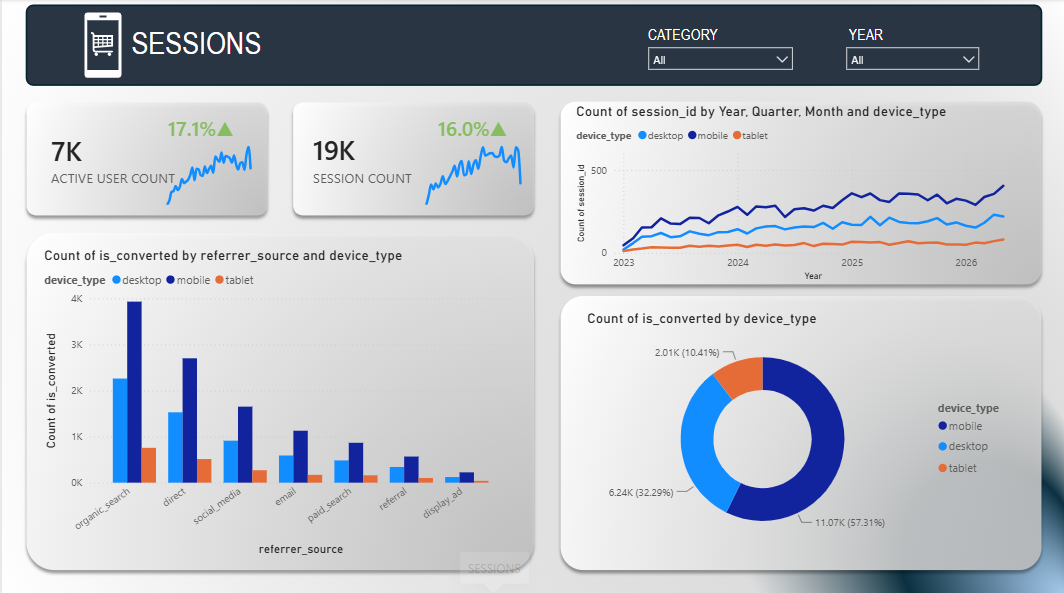

Layout of this report page (visuals, bound fields, positions):
{"tool":"powerbi","page":{"name":"SESSIONS","canvas":[1280,720],"ordinal":4},"visuals":[{"type":"cardVisual","fields":{"Data":["DAX Measures.ACTIVE USER COUNT"]},"box":[30.2,139.3,216.8,106.4],"z":0},{"type":"cardVisual","fields":{"Data":["DAX Measures.SESSION COUNT"]},"box":[345.5,143.2,183.9,98.5],"z":1000},{"type":"cardVisual","fields":{"Data":["DAX Measures.% YOY ACTIVE USER"]},"box":[170.8,114.3,151.1,78.8],"z":2000},{"type":"cardVisual","fields":{"Data":["DAX Measures.% YOY SESSION COUNT"]},"box":[496.6,114.3,151.1,78.8],"z":3000},{"type":"lineChart","fields":{"Category":["users.signup_date.Variation.Date Hierarchy.Year","users.signup_date.Variation.Date Hierarchy.Quarter","users.signup_date.Variation.Date Hierarchy.Month"],"Y":["DAX Measures.ACTIVE USER COUNT"]},"box":[183.9,164.2,130.1,89.3],"z":4000},{"type":"lineChart","fields":{"Category":["users.signup_date.Variation.Date Hierarchy.Year","users.signup_date.Variation.Date Hierarchy.Quarter","users.signup_date.Variation.Date Hierarchy.Month"],"Y":["DAX Measures.SESSION COUNT"]},"box":[496.6,164.2,143.2,89.3],"z":5000},{"type":"lineChart","fields":{"Category":["sessions.start_time.Variation.Date Hierarchy.Year","sessions.start_time.Variation.Date Hierarchy.Quarter","sessions.start_time.Variation.Date Hierarchy.Month"],"Y":["CountNonNull(sessions.session_id)"],"Series":["sessions.device_type"]},"box":[685.8,124.8,537.4,219.4],"z":8000},{"type":"donutChart","fields":{"Category":["sessions.device_type"],"Y":["CountNonNull(sessions.is_converted)"]},"box":[699,374.5,524.2,291.7],"z":9000},{"type":"clusteredColumnChart","fields":{"Category":["sessions.referrer_source"],"Y":["CountNonNull(sessions.is_converted)"],"Series":["sessions.device_type"]},"box":[46,298.2,572.8,377.1],"z":10000},{"type":"slicer","fields":{"Values":["products.category"]},"box":[768,48.2,194.1,45.4],"z":10001},{"type":"slicer","fields":{"Values":["purchases.order_date.Variation.Date Hierarchy.Year"]},"box":[1006.1,48.2,180.3,49.5],"z":10002}]}

Visuals, with their boxes in screenshot pixels (x1, y1, x2, y2), scaled from the page's 1280x720 canvas onto the 1064x593 screenshot:
cardVisual - DAX Measures.ACTIVE USER COUNT: rect(25, 115, 205, 202)
cardVisual - DAX Measures.SESSION COUNT: rect(287, 118, 440, 199)
cardVisual - DAX Measures.% YOY ACTIVE USER: rect(142, 94, 268, 159)
cardVisual - DAX Measures.% YOY SESSION COUNT: rect(413, 94, 538, 159)
lineChart - users.signup_date.Variation.Date Hierarchy.Year x users.signup_date.Variation.Date Hierarchy.Quarter: rect(153, 135, 261, 209)
lineChart - users.signup_date.Variation.Date Hierarchy.Year x users.signup_date.Variation.Date Hierarchy.Quarter: rect(413, 135, 532, 209)
lineChart - sessions.start_time.Variation.Date Hierarchy.Year x sessions.start_time.Variation.Date Hierarchy.Quarter: rect(570, 103, 1017, 283)
donutChart - sessions.device_type x CountNonNull(sessions.is_converted): rect(581, 308, 1017, 549)
clusteredColumnChart - sessions.referrer_source x CountNonNull(sessions.is_converted): rect(38, 246, 514, 556)
slicer - products.category: rect(638, 40, 800, 77)
slicer - purchases.order_date.Variation.Date Hierarchy.Year: rect(836, 40, 986, 80)
